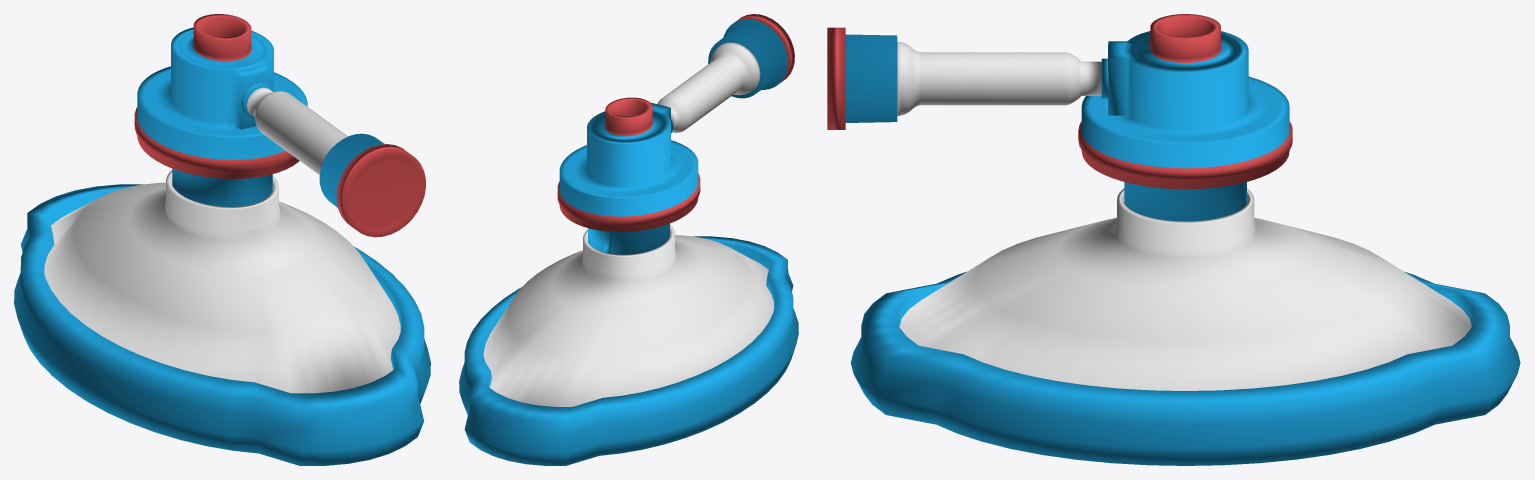
Rendered from Nafas_AmbuBag.fbx.
3 renders of one model, left to right at view 1: azimuth 30°, elevation 25°; view 2: azimuth 150°, elevation 25°; view 3: azimuth 270°, elevation 25°, orthographic. The views are drawn at different scales.
Visible parts, largest first — view 1: Cylinder; view 2: Cylinder; view 3: Cylinder.
Part boxes in pixels (<box>): Cylinder: <box>14,14,430,465</box>; Cylinder: <box>459,14,798,465</box>; Cylinder: <box>827,14,1520,465</box>.
Bounding box in the file's own units: 240 × 238 × 412.
